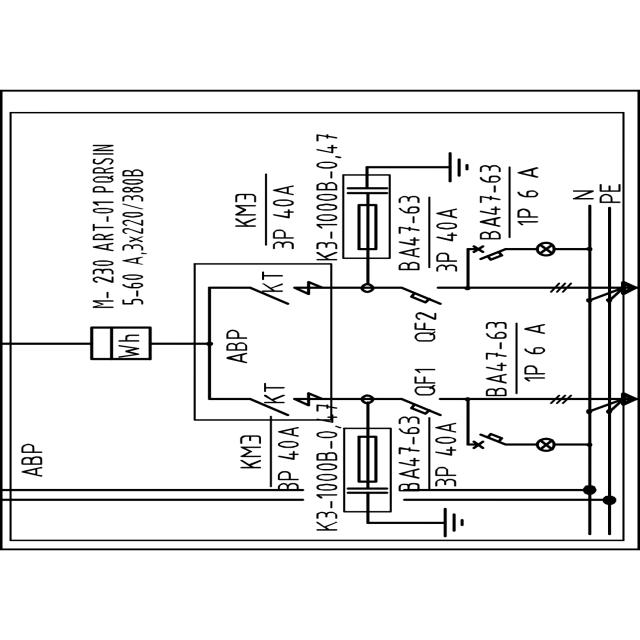-: (86, 140, 152, 312), (393, 193, 461, 279), (480, 316, 550, 398), (474, 159, 540, 242), (230, 172, 296, 254), (393, 414, 463, 490), (238, 425, 304, 490), (18, 442, 47, 482), (256, 380, 288, 404), (259, 270, 288, 296)
AVR: (222, 327, 252, 368)
HL: (535, 240, 557, 258), (535, 437, 555, 452)
KM: (249, 276, 323, 305), (246, 392, 322, 416)
QF: (401, 394, 447, 418), (401, 282, 446, 306), (470, 245, 510, 263), (470, 432, 510, 450)
WH: (88, 324, 154, 364)
